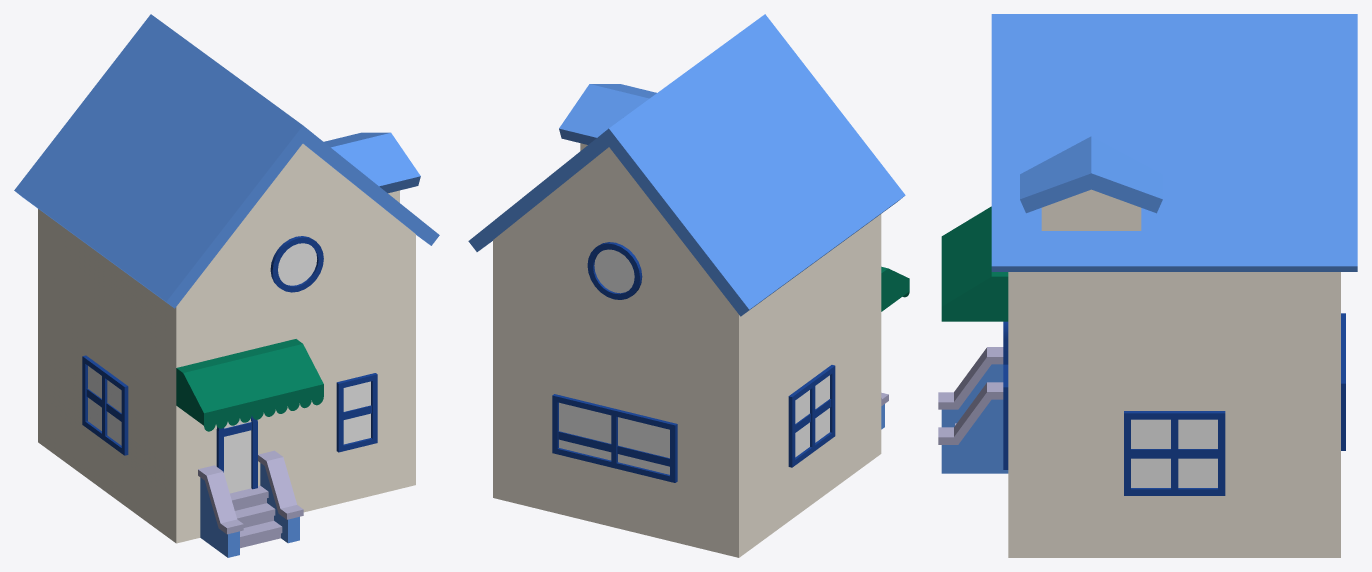
Rendered from M1_House04.fbx.
The picture shows the model from 3 angles, left to right: view 1: azimuth 30°, elevation 25°; view 2: azimuth 150°, elevation 25°; view 3: azimuth 270°, elevation 25°; orthographic projection. The views are drawn at different scales.
Parts seen in each view (by area): view 1: mergedBlocks; view 2: mergedBlocks; view 3: mergedBlocks.
Part boxes in pixels (bbox=[...]): mergedBlocks: bbox=[14, 14, 439, 557]; mergedBlocks: bbox=[468, 14, 909, 557]; mergedBlocks: bbox=[938, 14, 1357, 557].
Bounding box in the file's own units: 22.83 × 31.41 × 25.2.
